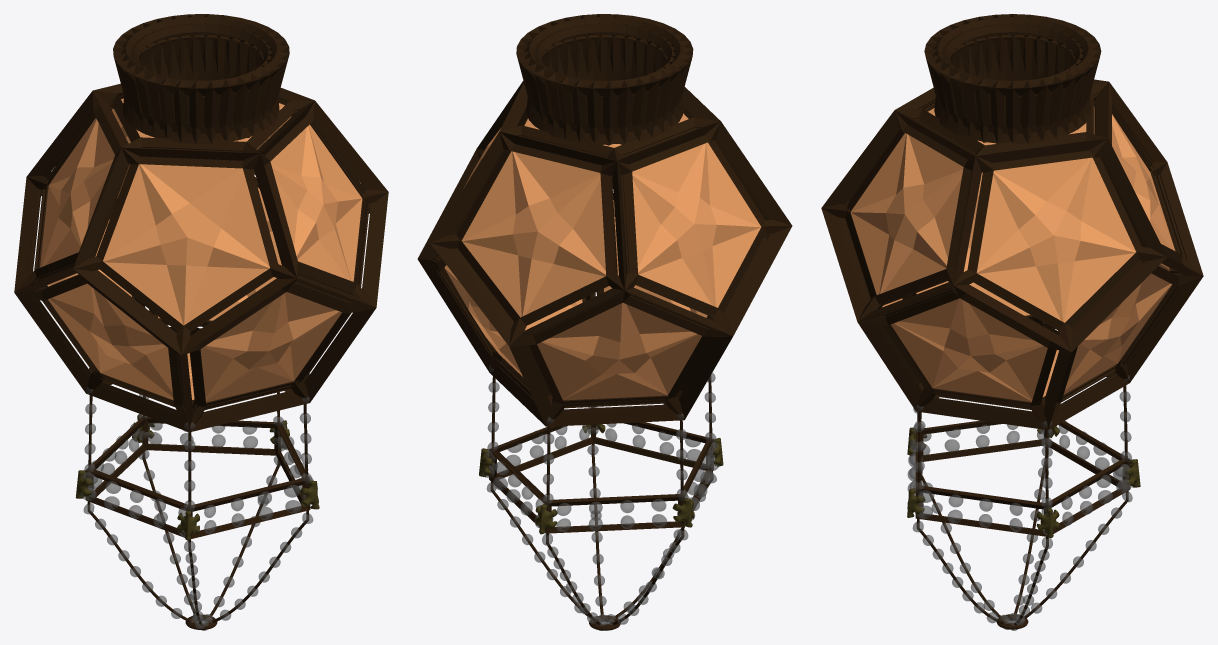
The model's file is Gaudi2.glb.
The picture shows the model from 3 angles, left to right: view 1: azimuth 30°, elevation 25°; view 2: azimuth 150°, elevation 25°; view 3: azimuth 270°, elevation 25°; orthographic projection.
Visible parts, largest first — view 1: Dodeca prin.001, Dodeca prin.003, Dodeca prin.002, Sphere.005, Sphere.006, Gear, Sphere.002, Sphere.001, Sphere, Sphere.004, Sphere.003, BézierCurve.001 (+4 smaller); view 2: Dodeca prin.001, Dodeca prin.003, Dodeca prin.002, Sphere.005, Sphere.006, Gear, Sphere.003, Sphere.002, Sphere.004, Sphere.001, Sphere, BézierCurve.004 (+4 smaller); view 3: Dodeca prin.001, Dodeca prin.003, Dodeca prin.002, Sphere.005, Sphere.006, Gear, Sphere.001, Sphere.004, Sphere.003, BézierCurve, Sphere.002, Sphere (+2 smaller).
Part boxes in pixels (x1,y1,x2,y2): Dodeca prin.001: (14, 14, 388, 432); Dodeca prin.003: (40, 98, 362, 402); Dodeca prin.002: (85, 416, 310, 538); Sphere.005: (80, 432, 311, 536); Sphere.006: (82, 422, 313, 517); Gear: (75, 414, 319, 540); Sphere.002: (83, 387, 196, 622); Sphere.001: (205, 396, 313, 622); Sphere: (184, 422, 208, 630); Sphere.004: (203, 416, 284, 620); Sphere.003: (138, 394, 201, 617); BézierCurve.001: (87, 395, 193, 621); Dodeca prin.001: (417, 14, 792, 426); Dodeca prin.003: (444, 113, 760, 400); Dodeca prin.002: (489, 422, 713, 533); Sphere.005: (482, 426, 719, 531); Sphere.006: (484, 423, 718, 515); Gear: (479, 407, 723, 534); Sphere.003: (542, 417, 606, 630); Sphere.002: (605, 413, 688, 630); Sphere.004: (486, 365, 601, 620); Sphere.001: (587, 407, 607, 623); Sphere: (606, 373, 716, 623); BézierCurve.004: (490, 376, 591, 619); Dodeca prin.001: (821, 14, 1203, 429); Dodeca prin.003: (850, 106, 1175, 402); Dodeca prin.002: (915, 420, 1130, 536); Sphere.005: (907, 429, 1131, 534); Sphere.006: (909, 420, 1129, 515); Gear: (907, 425, 1140, 537); Sphere.001: (912, 405, 1012, 629); Sphere.004: (1009, 421, 1052, 630); Sphere.003: (1017, 375, 1132, 619); BézierCurve: (1022, 385, 1128, 619); Sphere.002: (1009, 429, 1052, 622); Sphere: (913, 408, 1009, 622).
Bounding box in the file's own units: 1.94 × 3.4 × 2.04.
